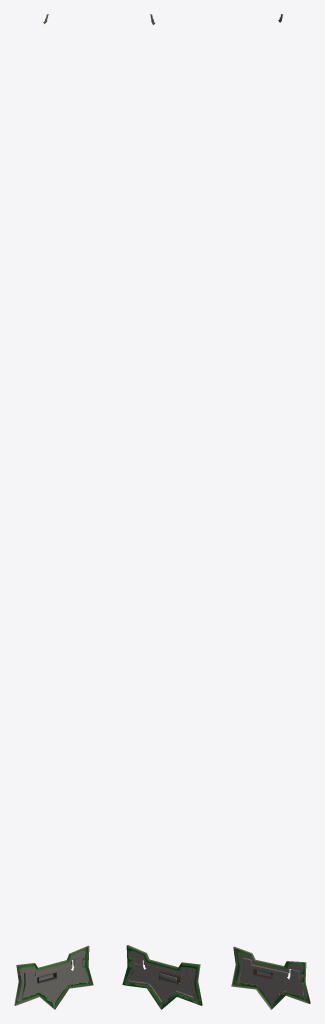
File: test_scale.dae
3 views of the same model, side by side, from view 1: azimuth 30°, elevation 25°; view 2: azimuth 150°, elevation 25°; view 3: azimuth 330°, elevation 25° (orthographic).
Parts seen in each view (by area): view 1: Mesh, Grass_Upper, Ground_Upper, Wall_Outer, WallGreen; view 2: Mesh, Grass_Upper, Ground_Upper, WallGreen, Wall_Outer; view 3: Mesh, Grass_Upper, Ground_Upper, Wall_Outer.
Part boxes in pixels (bbox=[...]): Mesh: bbox=[23, 958, 87, 1002]; Grass_Upper: bbox=[16, 947, 91, 1007]; Ground_Upper: bbox=[17, 951, 88, 1008]; Wall_Outer: bbox=[14, 945, 93, 1009]; WallGreen: bbox=[21, 957, 82, 1002]; Mesh: bbox=[129, 958, 193, 1001]; Grass_Upper: bbox=[122, 946, 201, 1009]; Ground_Upper: bbox=[126, 951, 198, 1008]; WallGreen: bbox=[128, 957, 194, 1002]; Wall_Outer: bbox=[122, 945, 202, 1009]; Mesh: bbox=[239, 958, 303, 1002]; Grass_Upper: bbox=[233, 948, 308, 1007]; Ground_Upper: bbox=[235, 952, 306, 1008]; Wall_Outer: bbox=[231, 946, 310, 1009].
Bounding box in the file's own units: 149 × 32.04 × 1800.
